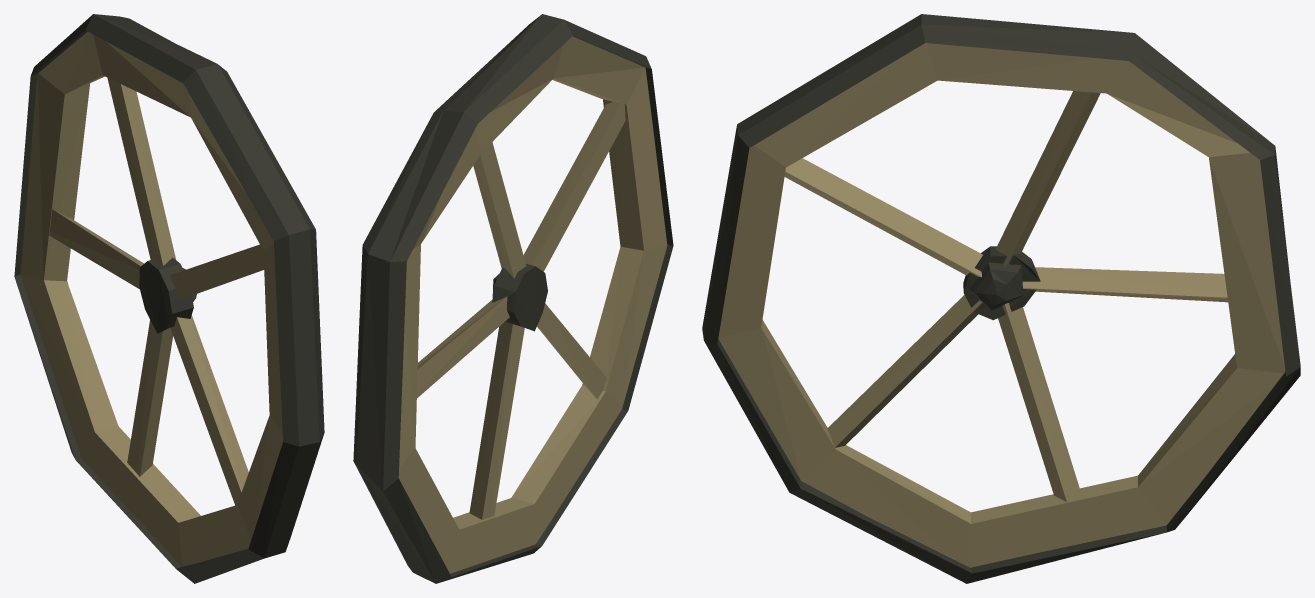
The model's file is Global_Wheel.fbx.
3 views of the same model, side by side, from view 1: azimuth 30°, elevation 25°; view 2: azimuth 150°, elevation 25°; view 3: azimuth 270°, elevation 25° (orthographic). The views are drawn at different scales.
Parts seen in each view (by area): view 1: Wheel; view 2: Wheel; view 3: Wheel.
Part boxes in pixels (<box>): Wheel: <box>14,14,324,583</box>; Wheel: <box>353,14,673,583</box>; Wheel: <box>702,14,1300,583</box>.
Size of the model in its own units: 0.1769 by 1.61 by 1.57.
